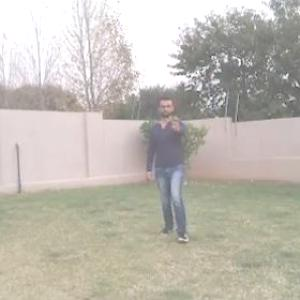takeoff-hand: (168, 108, 186, 136)
